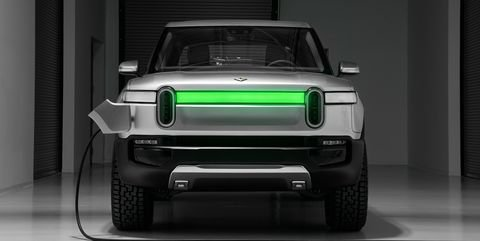car: (95, 17, 372, 228)
